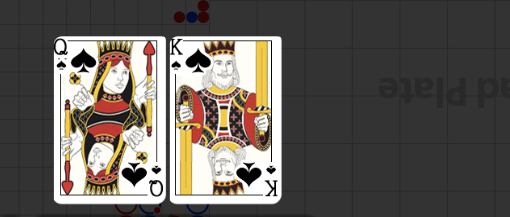9S: (55, 38, 70, 74)
KS: (263, 162, 280, 200)
